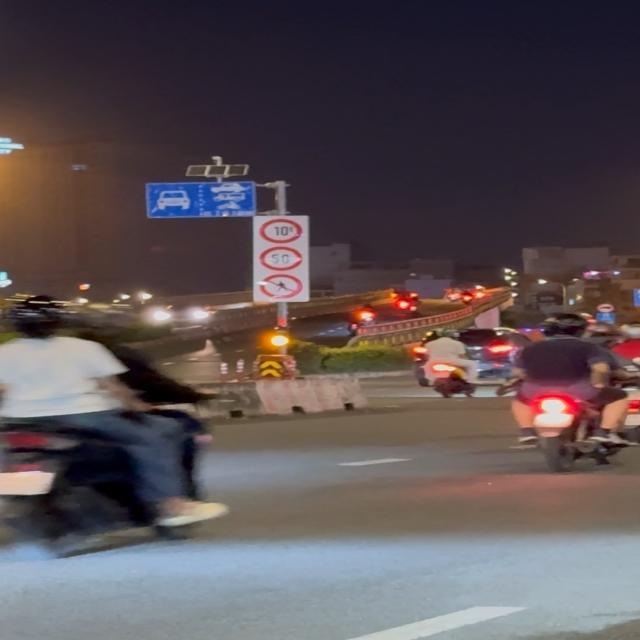Bien bao cam nguoi di bo: (259, 273, 307, 300)
Bien bao toc do toi da cho phep: (259, 246, 306, 271)
